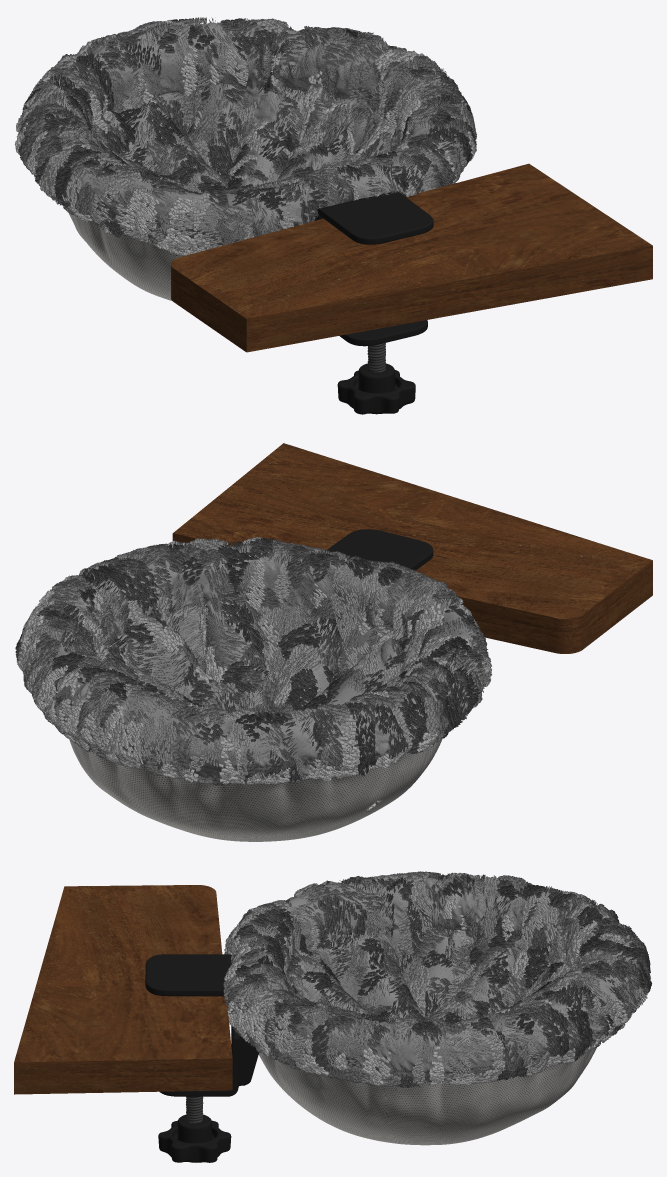
Rendered from deskpaws_desktop_FINAL.glb.
3 renders of one model, top to bottom at view 1: azimuth 30°, elevation 25°; view 2: azimuth 150°, elevation 25°; view 3: azimuth 270°, elevation 25°, orthographic. The views are drawn at different scales.
Parts seen in each view (by area): view 1: Plane, Desk, Basket Top, Base Structure.001, Basket Bottom; view 2: Plane, Desk, Basket Top, Basket Bottom, Base Structure.001; view 3: Plane, Desk, Basket Top, Basket Bottom, Base Structure.001, Screw.001.
Boxes of the visible parts, x1=… form: Plane: x1=15, y1=17, x2=476, y2=256; Desk: x1=171, y1=163, x2=652, y2=352; Basket Top: x1=26, y1=22, x2=465, y2=249; Base Structure.001: x1=314, y1=191, x2=433, y2=414; Basket Bottom: x1=68, y1=212, x2=182, y2=300; Plane: x1=15, y1=537, x2=491, y2=785; Desk: x1=172, y1=443, x2=652, y2=653; Basket Top: x1=27, y1=544, x2=484, y2=779; Basket Bottom: x1=69, y1=738, x2=442, y2=841; Base Structure.001: x1=323, y1=529, x2=433, y2=570; Plane: x1=223, y1=871, x2=651, y2=1087; Desk: x1=14, y1=885, x2=232, y2=1094; Basket Top: x1=231, y1=878, x2=644, y2=1082; Basket Bottom: x1=258, y1=1047, x2=596, y2=1145; Base Structure.001: x1=145, y1=954, x2=258, y2=1162; Screw.001: x1=186, y1=1096, x2=203, y2=1123.
Size of the model in its own units: 0.4132 by 0.2162 by 0.6004.
Materials: 6 (3 with a texture image).
